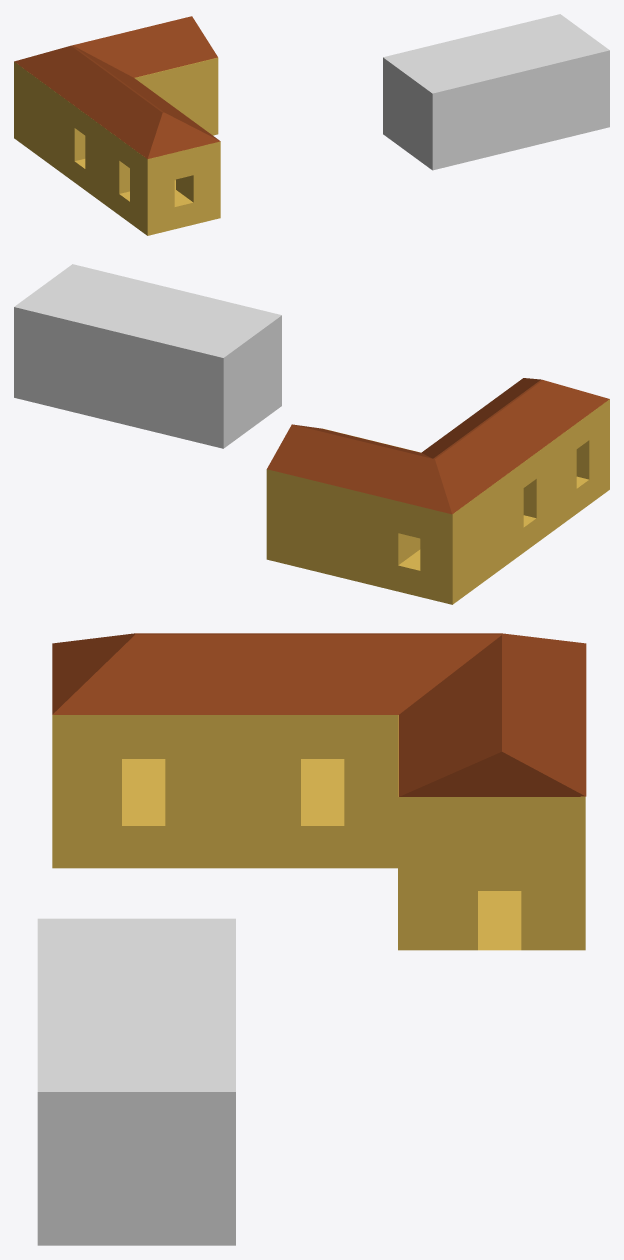
The model's file is Casas.fbx.
The picture shows the model from 3 angles, top to bottom: view 1: azimuth 30°, elevation 25°; view 2: azimuth 150°, elevation 25°; view 3: azimuth 270°, elevation 25°; orthographic projection. The views are drawn at different scales.
Visible parts, largest first — view 1: Casa 1, Cube.002; view 2: Casa 1, Cube.002; view 3: Casa 1, Cube.002.
Boxes of the visible parts, left/top/right/bottom form: Casa 1: left=14, top=16, right=220, bottom=235; Cube.002: left=383, top=14, right=609, bottom=170; Casa 1: left=266, top=378, right=609, bottom=604; Cube.002: left=14, top=264, right=281, bottom=448; Casa 1: left=52, top=633, right=586, bottom=950; Cube.002: left=37, top=918, right=235, bottom=1245.
Bounding box in the file's own units: 971 × 1875 × 389.
